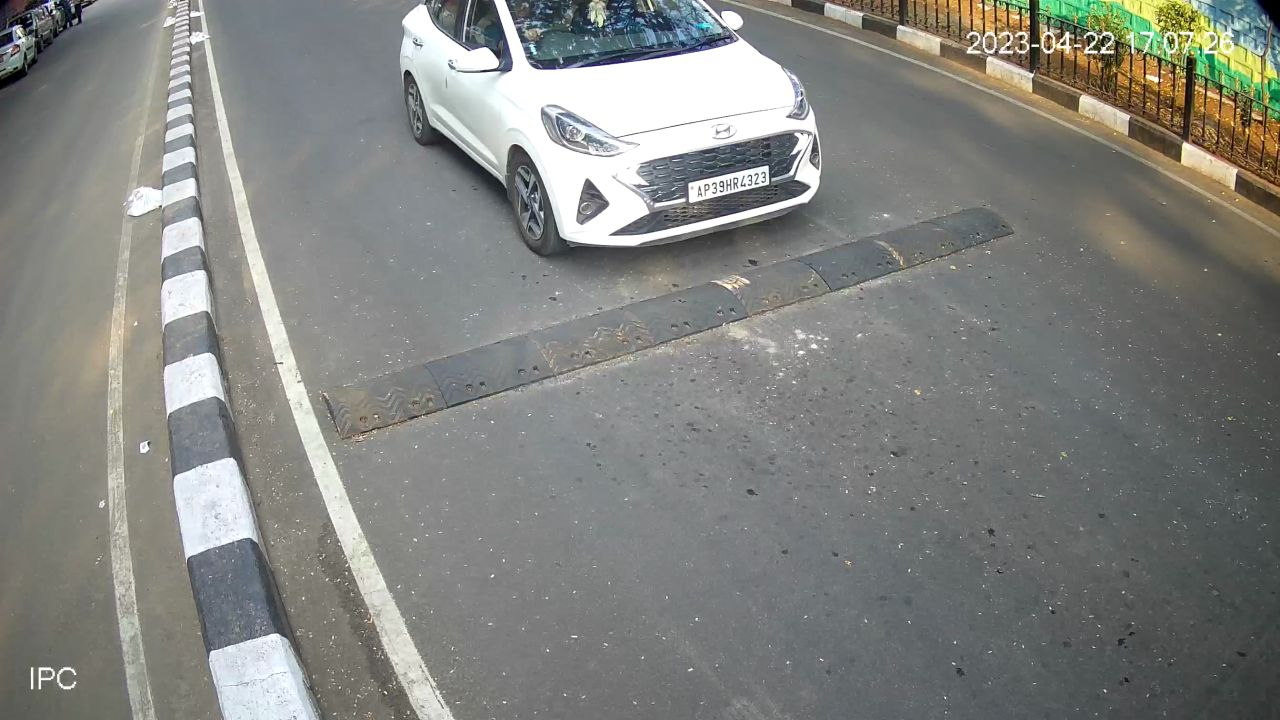license_plate: (682, 158, 778, 213)
